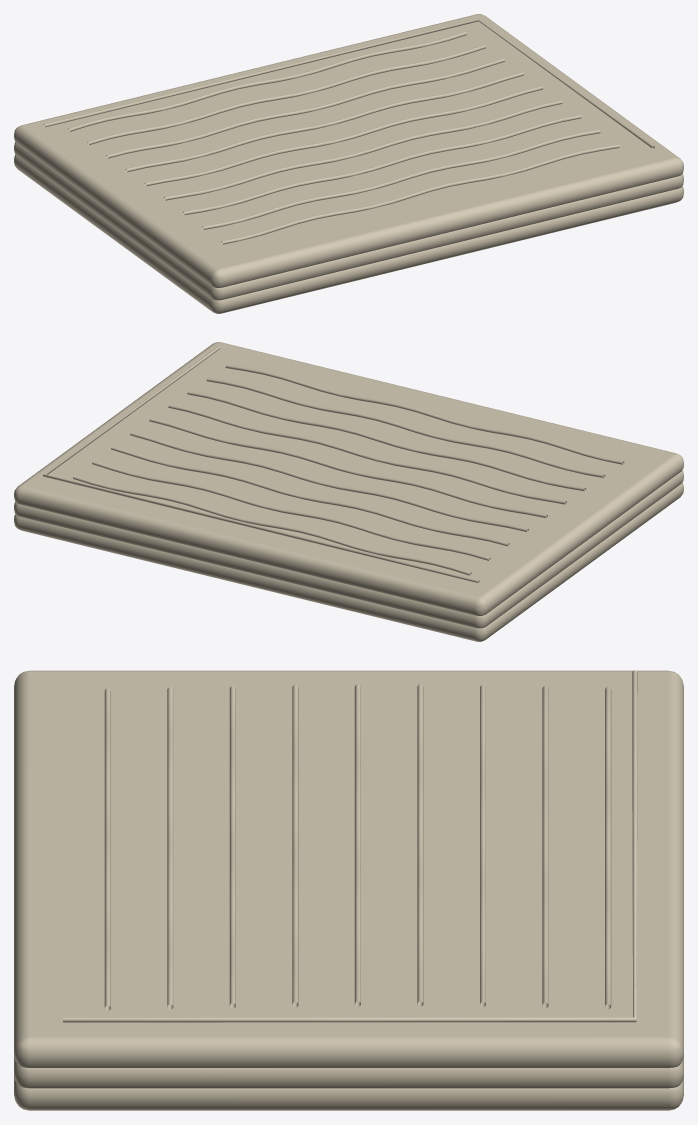
File: folded-oshibori.glb
The picture shows the model from 3 angles, top to bottom: view 1: azimuth 30°, elevation 25°; view 2: azimuth 150°, elevation 25°; view 3: azimuth 270°, elevation 25°; orthographic projection. The views are drawn at different scales.
Parts seen in each view (by area): view 1: Linen | unbleached cotton; view 2: Linen | unbleached cotton; view 3: Linen | unbleached cotton.
Boxes of the visible parts, x1,y1,x2,y2 form: Linen | unbleached cotton: (14, 14, 683, 313); Linen | unbleached cotton: (14, 342, 683, 641); Linen | unbleached cotton: (14, 670, 683, 1110).
Size of the model in its own units: 0.2 by 0.0206 by 0.15.
